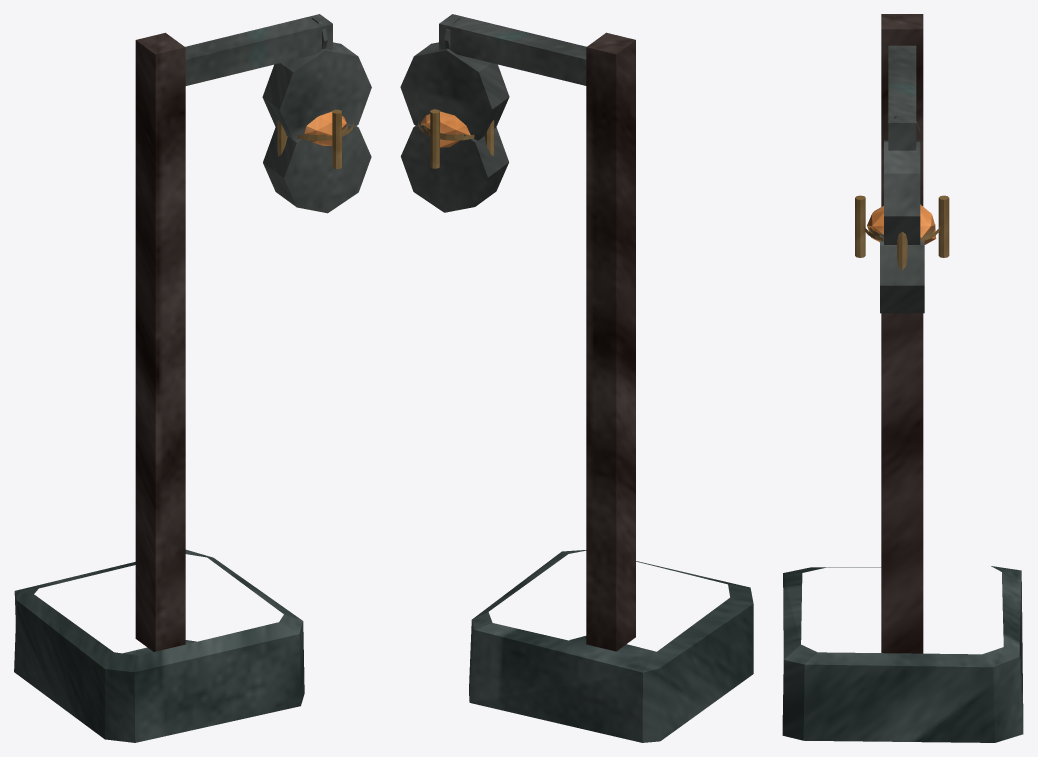
Rendered from 0719_lantern_post_19.glb.
3 views of the same model, side by side, from view 1: azimuth 30°, elevation 25°; view 2: azimuth 150°, elevation 25°; view 3: azimuth 270°, elevation 25° (orthographic). The views are drawn at different scales.
Visible parts, largest first — view 1: wood_dark, stone_dark, iron, brass, amber; view 2: wood_dark, stone_dark, iron, brass, amber; view 3: stone_dark, wood_dark, iron, brass, amber.
Part boxes in pixels (left/top/right/bottom): wood_dark: left=135, top=32, right=185, bottom=651; stone_dark: left=14, top=549, right=304, bottom=742; iron: left=185, top=14, right=371, bottom=213; brass: left=277, top=109, right=353, bottom=168; amber: left=304, top=111, right=346, bottom=145; wood_dark: left=586, top=32, right=635, bottom=651; stone_dark: left=469, top=550, right=753, bottom=742; iron: left=400, top=14, right=586, bottom=212; brass: left=418, top=109, right=494, bottom=168; amber: left=420, top=111, right=470, bottom=147; stone_dark: left=782, top=566, right=1023, bottom=742; wood_dark: left=881, top=14, right=923, bottom=653; iron: left=880, top=45, right=924, bottom=313; brass: left=855, top=195, right=949, bottom=270; amber: left=867, top=204, right=936, bottom=244.
Bounding box in the file's own units: 1.31 × 2.68 × 0.8647.
Materials: 5 (5 with a texture image).
